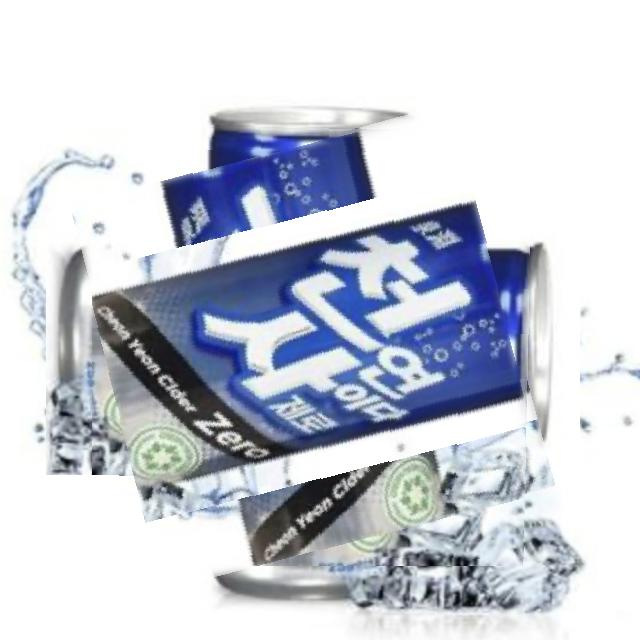recyclable: (92, 125, 533, 566)
